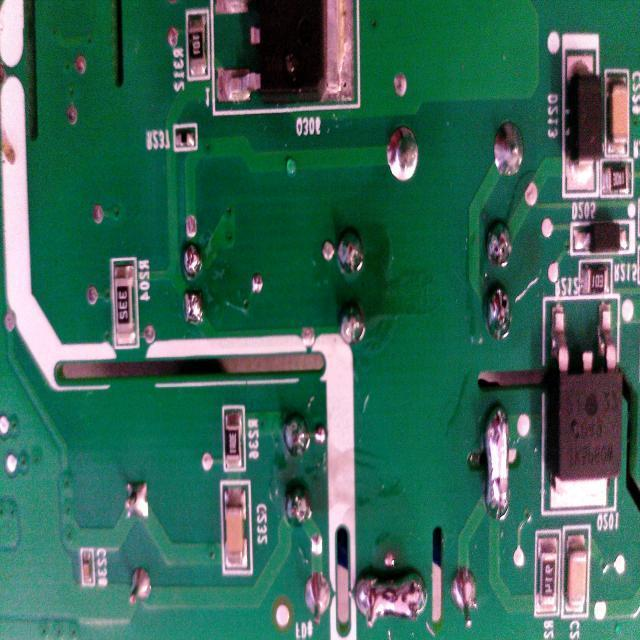Soldering shorted: (350, 564, 430, 628), (474, 404, 512, 534)
